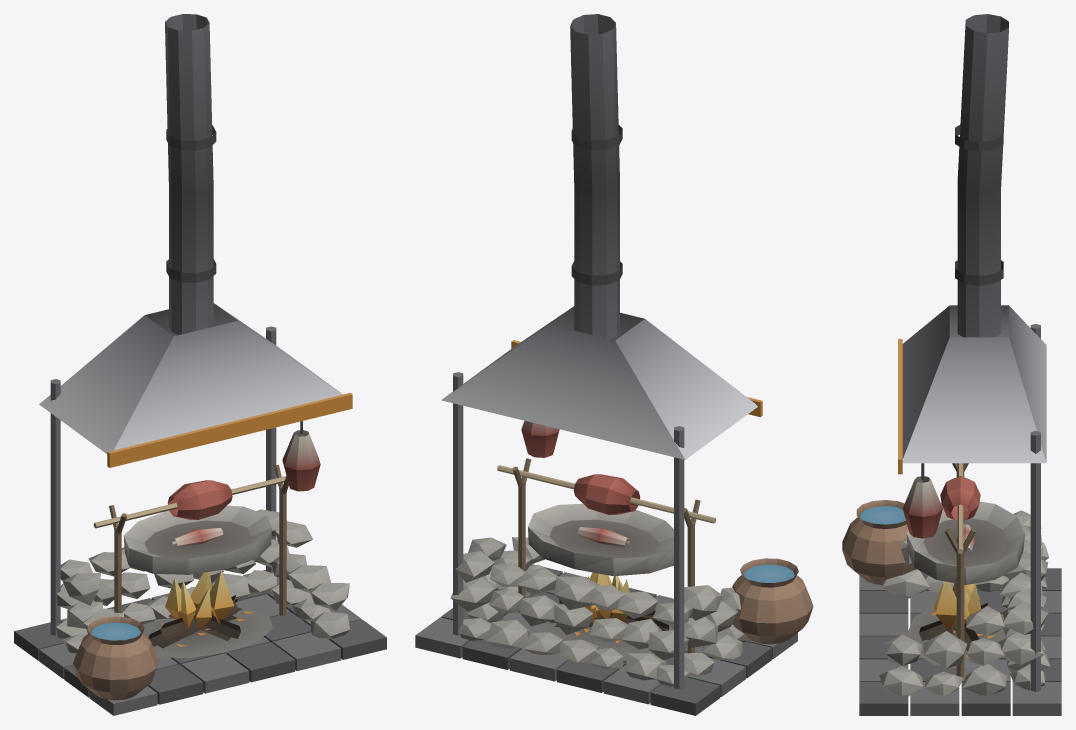
The model's file is kitchen_a.glb.
3 renders of one model, left to right at view 1: azimuth 30°, elevation 25°; view 2: azimuth 150°, elevation 25°; view 3: azimuth 270°, elevation 25°, orthographic. The views are drawn at different scales.
Visible parts, largest first — view 1: base, stone_pot, before_stone_pot, fire_glow; view 2: base, stone_pot, before_stone_pot, fire_glow; view 3: base, stone_pot, before_stone_pot, fire_glow.
Part boxes in pixels (x1,y1,x2,y2): base: [14, 14, 386, 715]; stone_pot: [123, 505, 271, 574]; before_stone_pot: [93, 464, 288, 615]; fire_glow: [161, 570, 253, 646]; base: [415, 14, 813, 715]; stone_pot: [528, 503, 673, 576]; before_stone_pot: [497, 458, 716, 653]; fire_glow: [574, 572, 629, 643]; base: [842, 14, 1061, 715]; stone_pot: [906, 501, 1024, 584]; before_stone_pot: [940, 463, 980, 677]; fire_glow: [932, 581, 994, 657].
Size of the model in its own units: 1.29 by 2.56 by 0.8152.
